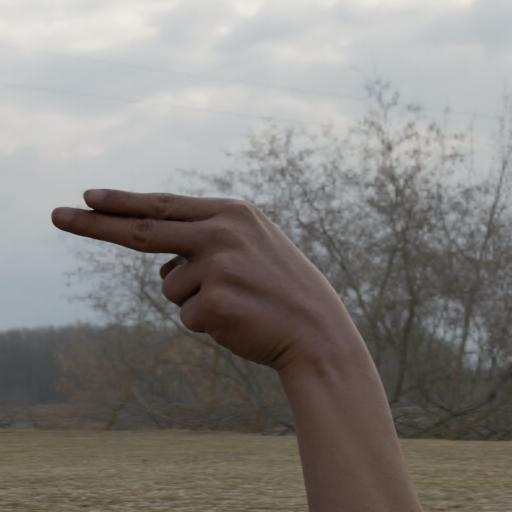H: (49, 151, 408, 512)
